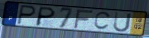7: (59, 6, 74, 29)
C: (93, 11, 113, 31)
F: (73, 10, 96, 30)
P: (34, 6, 57, 27), (16, 4, 37, 26)
U: (112, 12, 132, 34)
